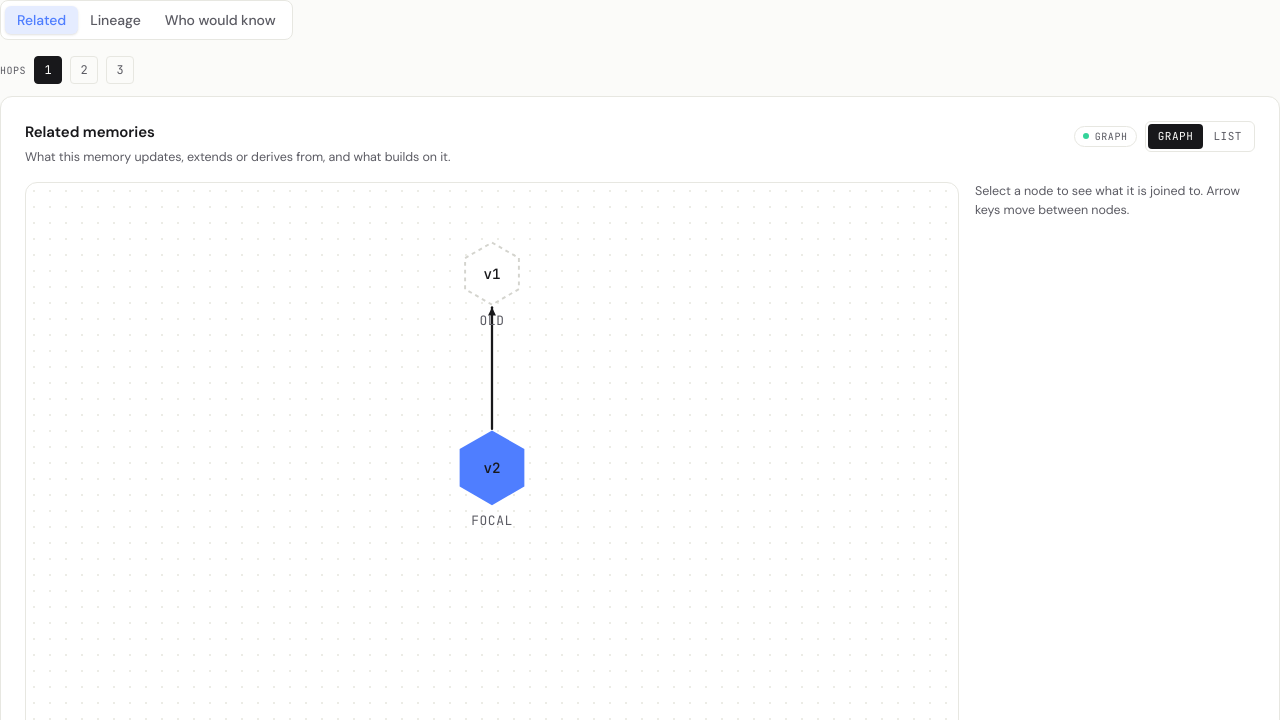
MemoryConnections › the lineage tab lists versions with contributors, and loads only when opened
Press the mouse on the tab with test id "tab-lineage": (115, 20) [78, 6, 153, 34]
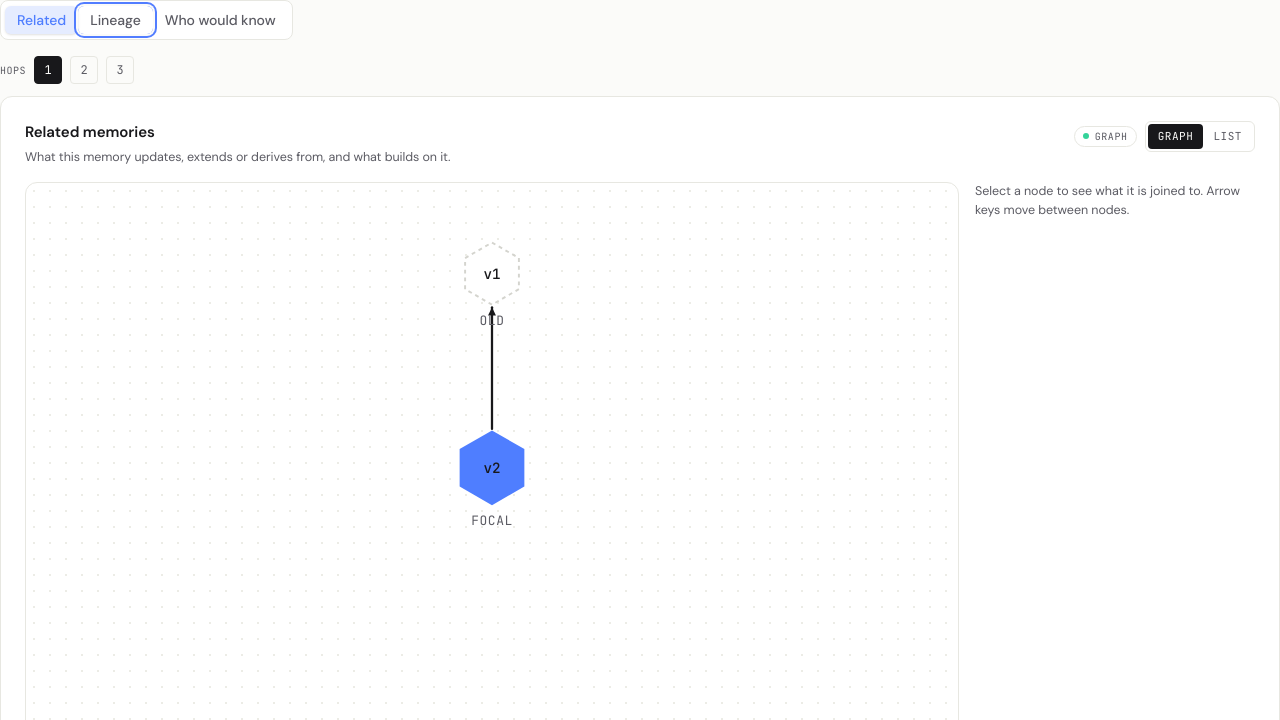
Focus the tab with test id "tab-lineage": (115, 20) [78, 6, 153, 34]
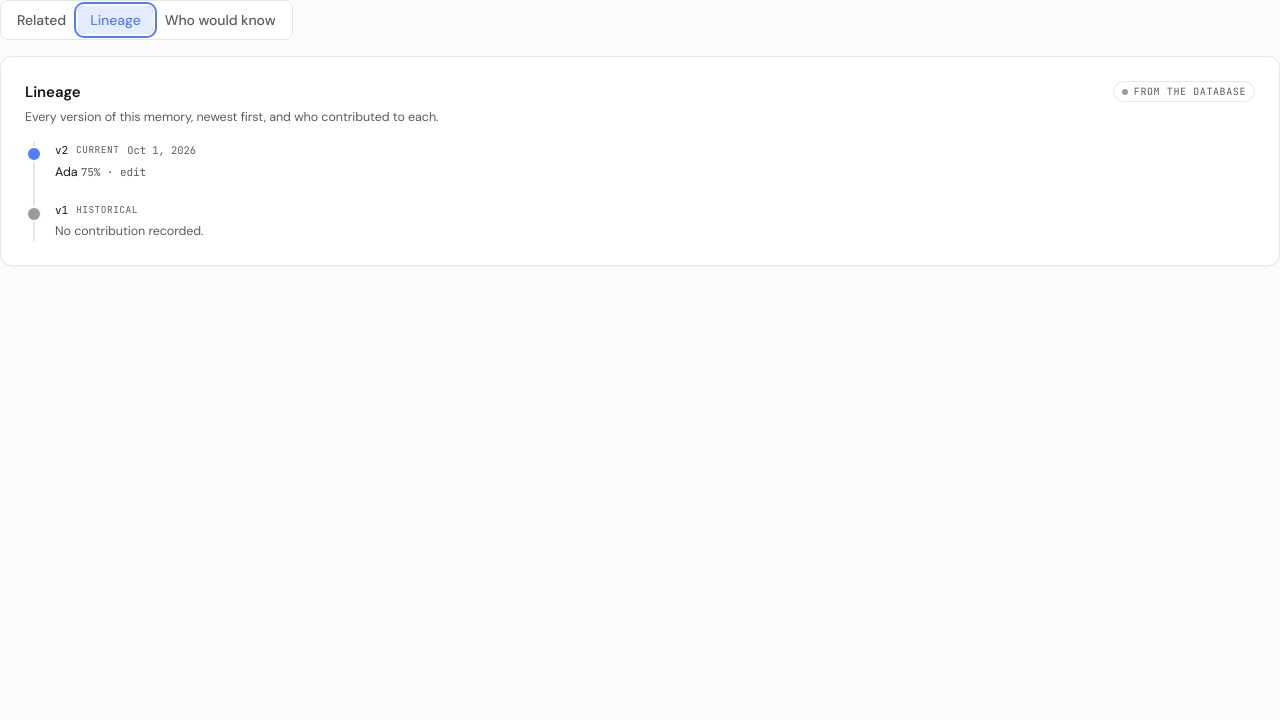
Result: the list with test id "lineage-list" shows "v2" at [33, 142, 1255, 241]
Result: the list with test id "lineage-list" shows "Ada" at [55, 164, 77, 180]
Result: the list with test id "lineage-list" shows "75%" at [81, 165, 100, 179]
